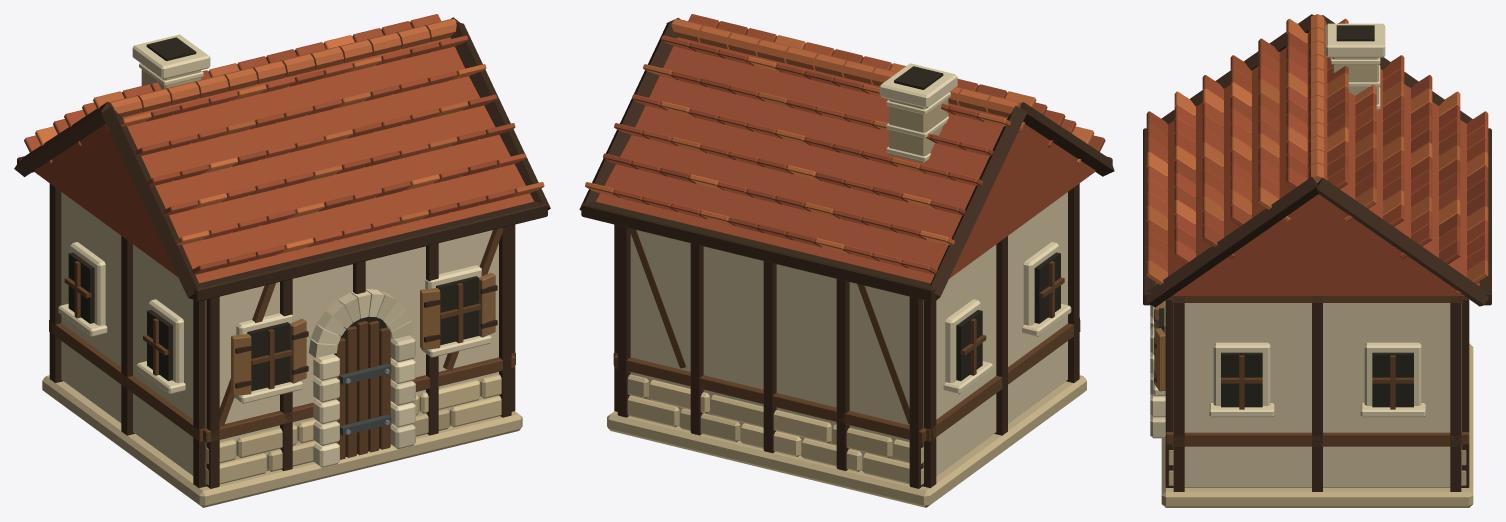
Rendered from house.glb.
3 renders of one model, left to right at view 1: azimuth 30°, elevation 25°; view 2: azimuth 150°, elevation 25°; view 3: azimuth 270°, elevation 25°, orthographic. The views are drawn at different scales.
Parts seen in each view (by area): view 1: Roof, Stone, Timber, Metal; view 2: Stone, Roof, Timber; view 3: Roof, Stone, Timber.
Part boxes in pixels (x1,y1,x2,y2): Roof: (24, 14, 544, 283); Stone: (42, 34, 522, 507); Timber: (14, 17, 550, 488); Metal: (339, 363, 391, 435); Stone: (607, 63, 1086, 507); Roof: (585, 14, 1105, 283); Timber: (579, 18, 1114, 488); Roof: (1146, 14, 1488, 295); Stone: (1150, 23, 1473, 507); Timber: (1143, 14, 1491, 491).
Bounding box in the file's own units: 5.83 × 5.72 × 5.04.
